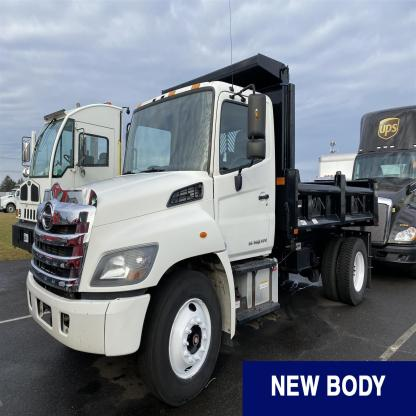dump_truck: (33, 50, 400, 402)
